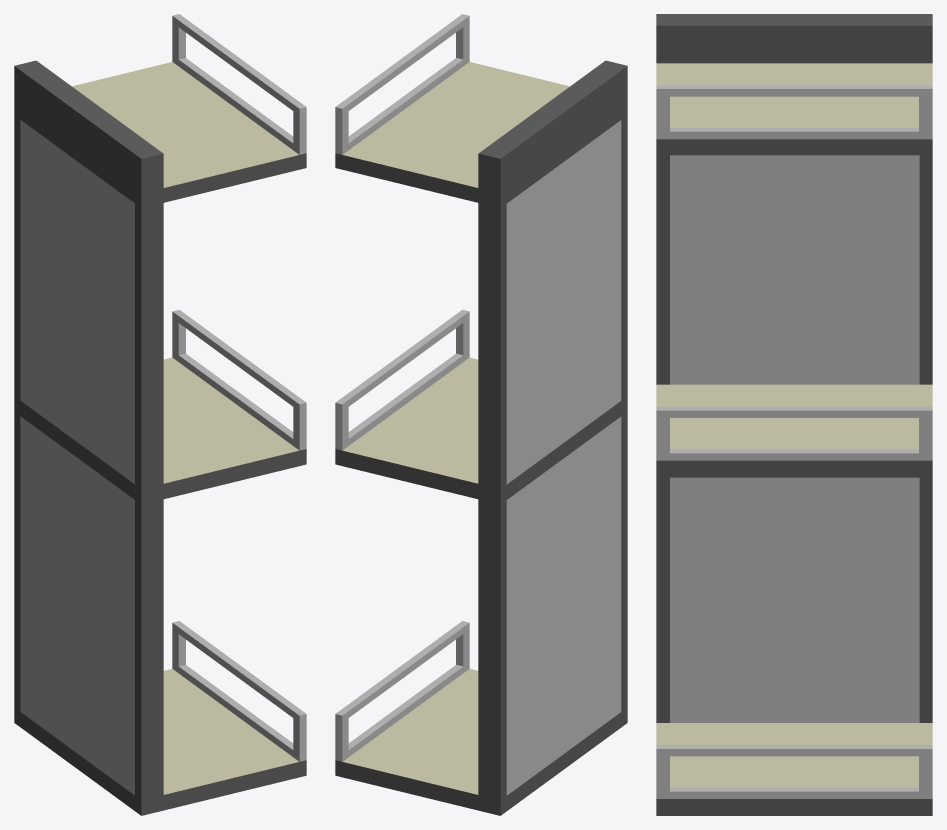
File: Side Shelf.fbx
The picture shows the model from 3 angles, left to right: view 1: azimuth 30°, elevation 25°; view 2: azimuth 150°, elevation 25°; view 3: azimuth 270°, elevation 25°; orthographic projection. The views are drawn at different scales.
Parts seen in each view (by area): view 1: Side Shelf; view 2: Side Shelf; view 3: Side Shelf.
Part boxes in pixels (x1=…): Side Shelf: x1=14, y1=14, x2=306, y2=815; Side Shelf: x1=335, y1=14, x2=627, y2=815; Side Shelf: x1=656, y1=14, x2=932, y2=815.
Size of the model in its own units: 150 by 580 by 200.
